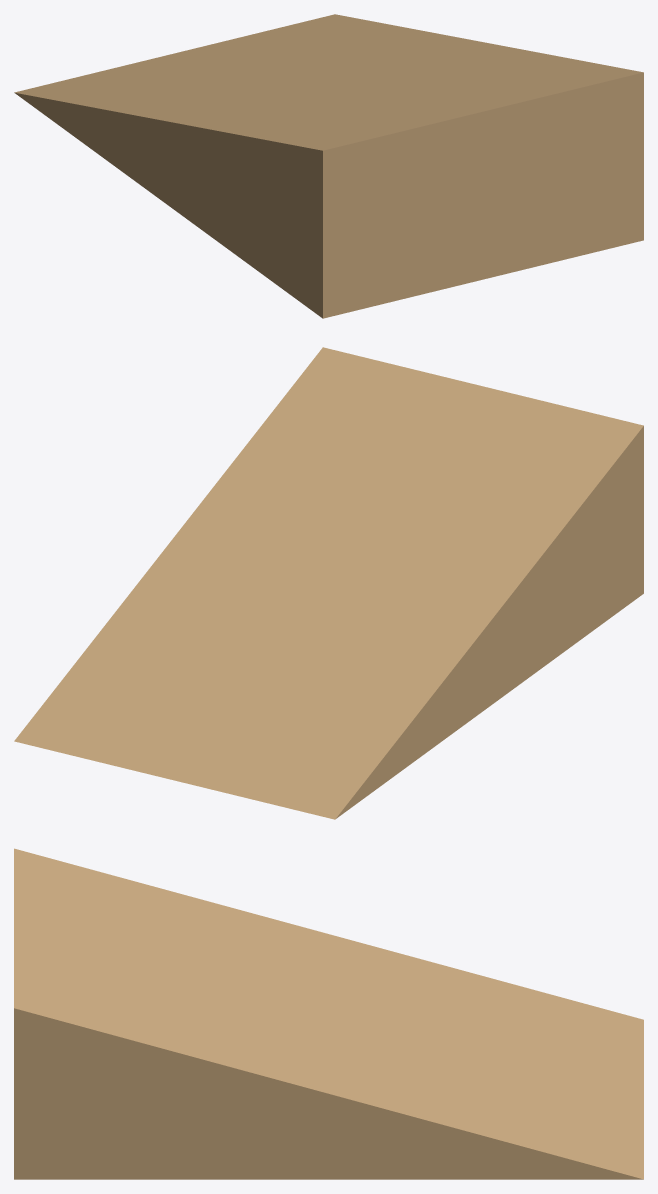
Rendered from prop-block-plane-wedge-bp1.fbx.
3 renders of one model, top to bottom at view 1: azimuth 30°, elevation 25°; view 2: azimuth 150°, elevation 25°; view 3: azimuth 270°, elevation 25°, orthographic.
Visible parts, largest first — view 1: prop-block-plane-wedge-bp1; view 2: prop-block-plane-wedge-bp1; view 3: prop-block-plane-wedge-bp1.
Part boxes in pixels (box(x1,y1,x2,y2)): prop-block-plane-wedge-bp1: box(14, 14, 643, 318); prop-block-plane-wedge-bp1: box(14, 347, 643, 819); prop-block-plane-wedge-bp1: box(14, 848, 643, 1179).
Bounding box in the file's own units: 3 × 1.5 × 5.
